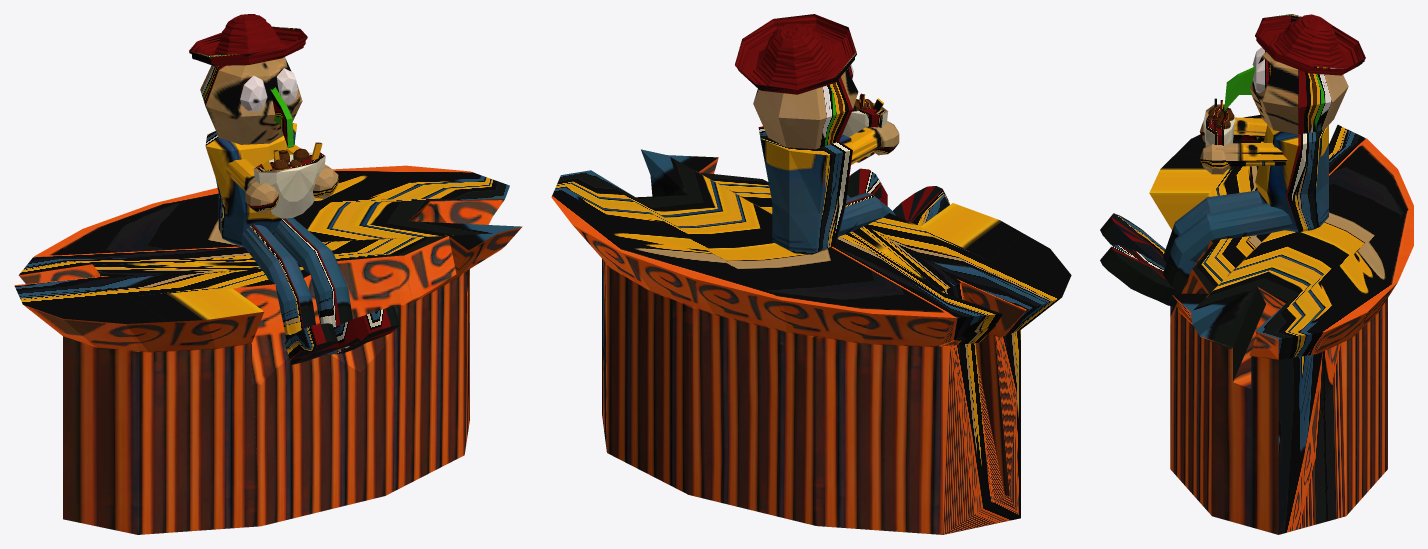
Rendered from Falafel.glb.
3 renders of one model, left to right at view 1: azimuth 30°, elevation 25°; view 2: azimuth 150°, elevation 25°; view 3: azimuth 270°, elevation 25°, orthographic. The views are drawn at different scales.
Parts seen in each view (by area): view 1: Falafel; view 2: Falafel; view 3: Falafel.
Part boxes in pixels (bbox=[...]): Falafel: bbox=[14, 14, 522, 534]; Falafel: bbox=[551, 14, 1071, 534]; Falafel: bbox=[1100, 14, 1413, 534].
Bounding box in the file's own units: 277 × 239 × 162.
1 material, 1 textured.
